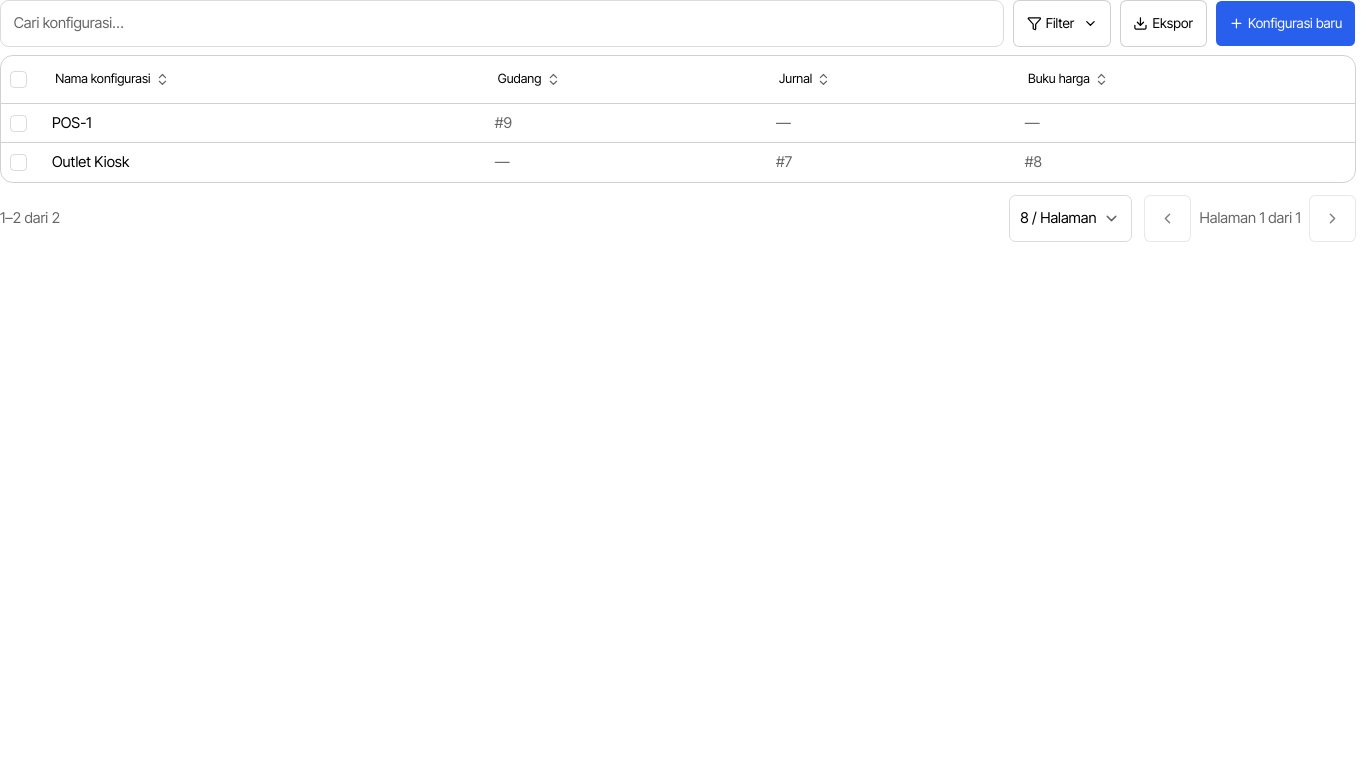
it: PosConfigsSection branches › keeps save disabled without a name
Expected: the text "Outlet Kiosk" is shown, [52,153,129,171]
Click the button "Konfigurasi baru": (1286, 23) [1215,0,1356,47]
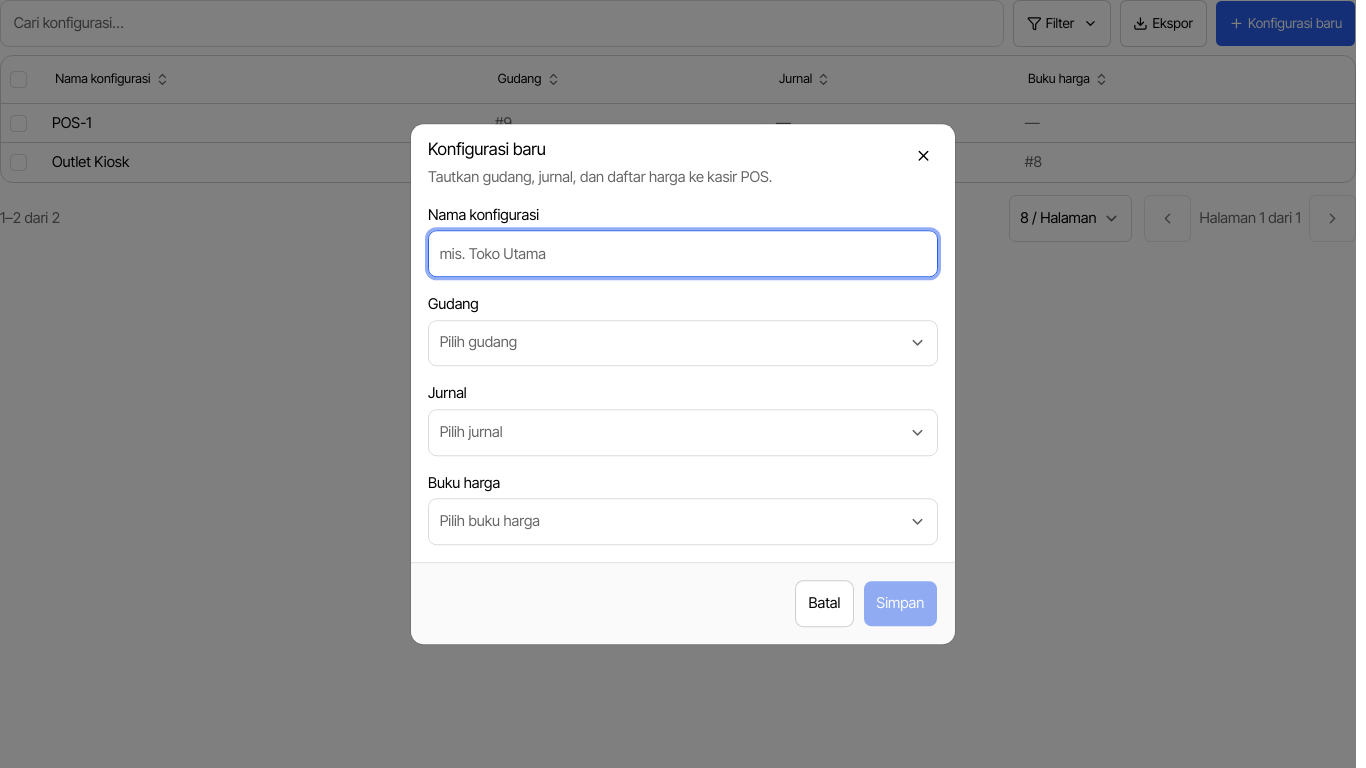
Expected: the heading "Konfigurasi baru" is shown, [428,139,546,159]
Expected: the button "Simpan" is disabled, [863,580,938,627]
